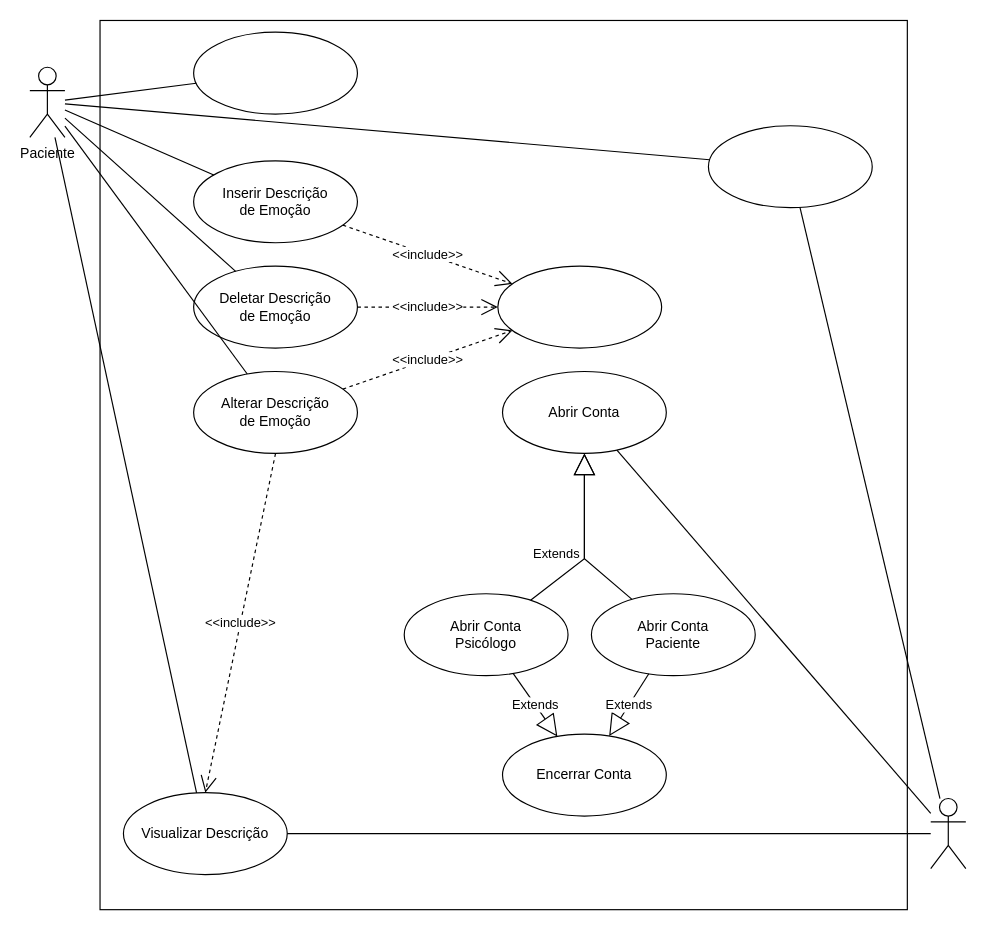
Image size: 999x930. Some labels were removed from this diagram. Each missing label, with the centre of its shape:
"Alterar Informações Pessoais" goes at [789,166].
"Psicólogo" goes at [948,833].
"Realizar Respiração Guiada" goes at [274,72].
"Registrar Atualização Descrição" goes at [579,306].
